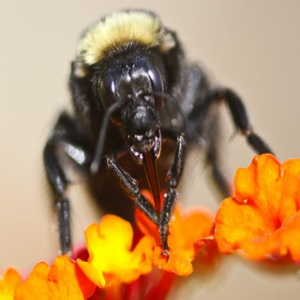bee: (42, 6, 281, 270)
